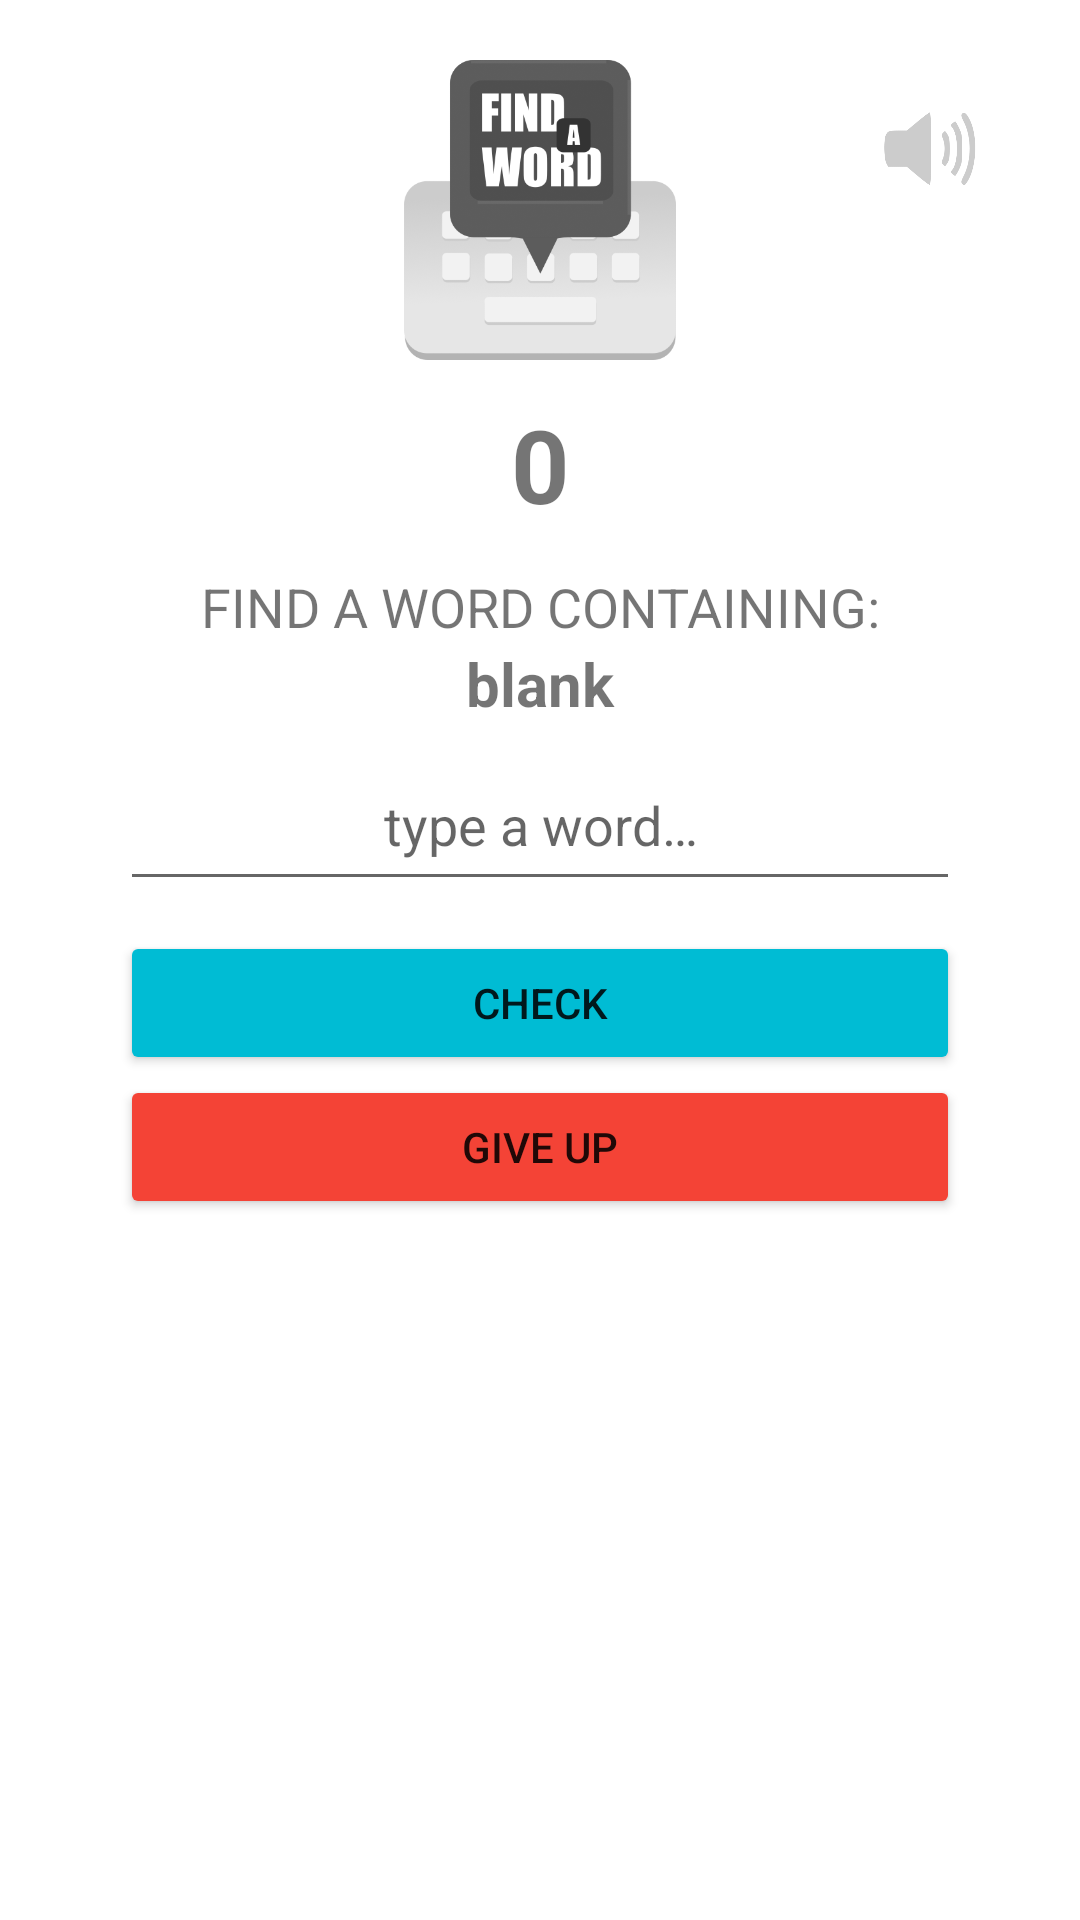

Icon click points for this 1080 x 1920 phone screenshot, format point (x, y):
volume: point (929, 149)
